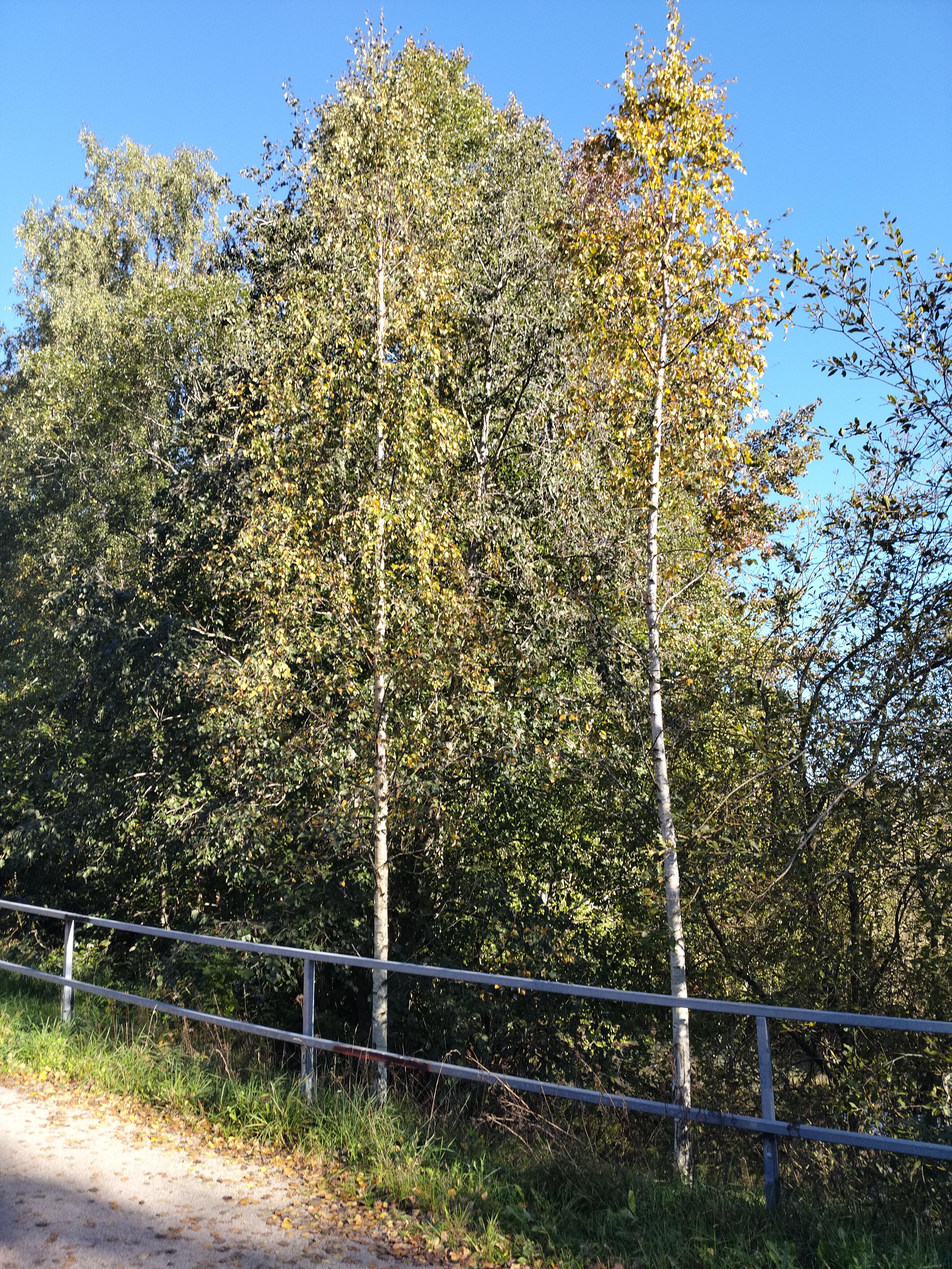Birch: (554, 1, 811, 1191), (289, 4, 546, 924)
